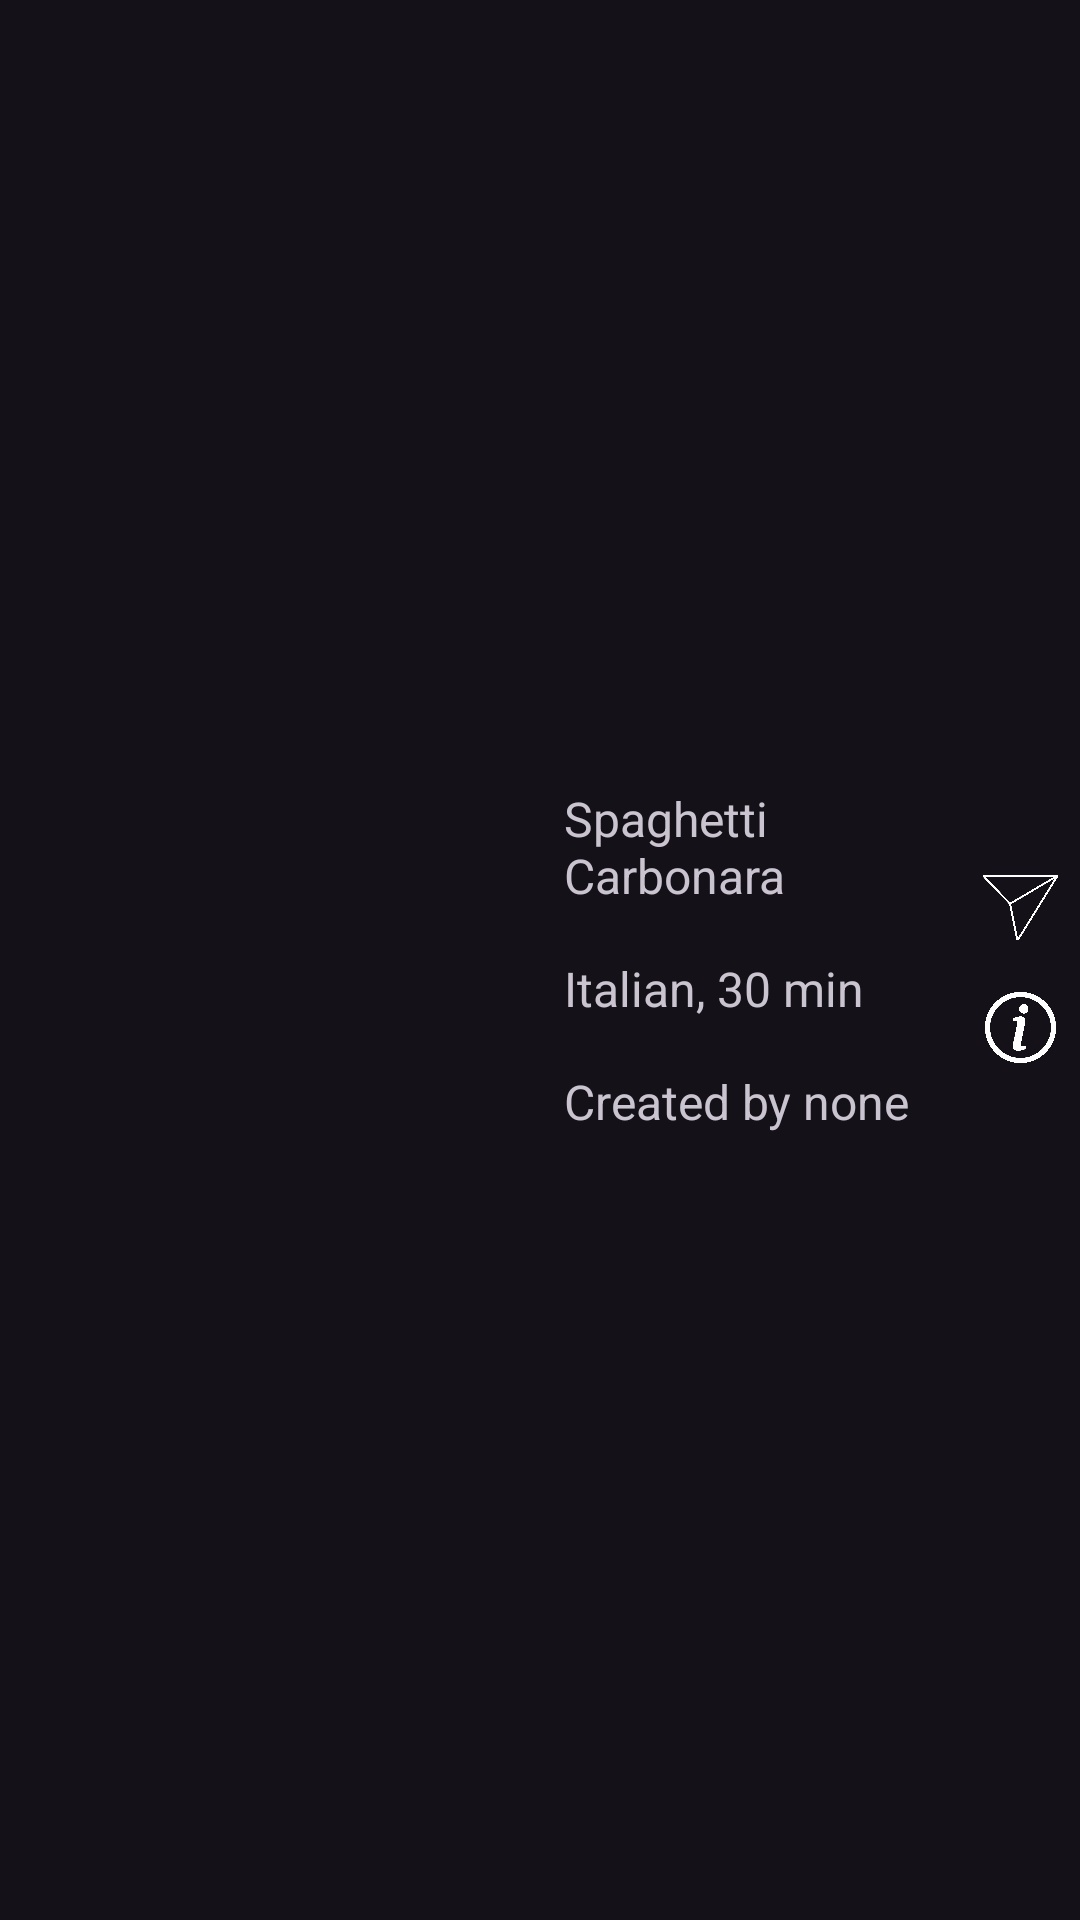

Icons on this 1080w x 1920h Android screen, each with its box as (x1, y1, x2, y2):
details: (985, 992, 1056, 1063)
